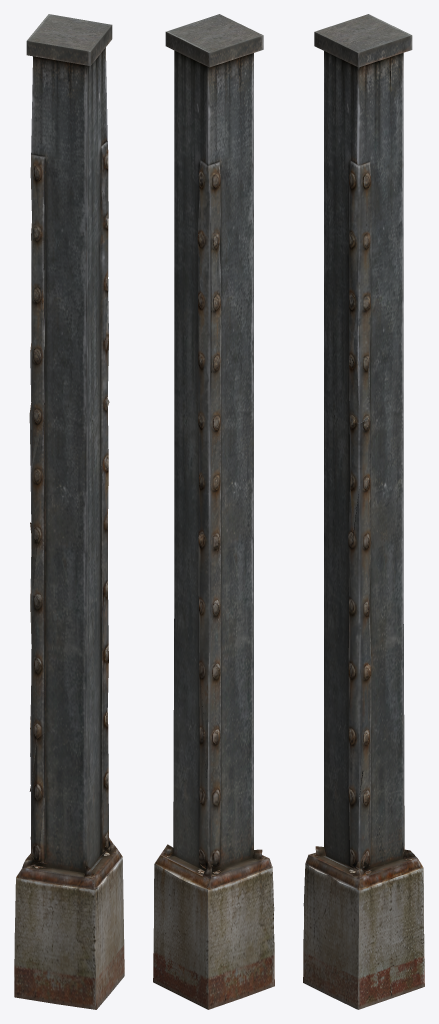
Rendered from corner.glb.
3 views of the same model, side by side, from view 1: azimuth 90°, elevation 25°; view 2: azimuth 150°, elevation 25°; view 3: azimuth 330°, elevation 25° (orthographic).
Visible parts, largest first — view 1: corner-detail; view 2: corner-detail; view 3: corner-detail.
Part boxes in pixels (box(x1,y1,x2,y2)): corner-detail: box(14, 14, 124, 1009); corner-detail: box(153, 14, 274, 1009); corner-detail: box(303, 14, 424, 1009).
Size of the model in its own units: 0.42 by 4 by 0.42.
1 material, 1 textured.
